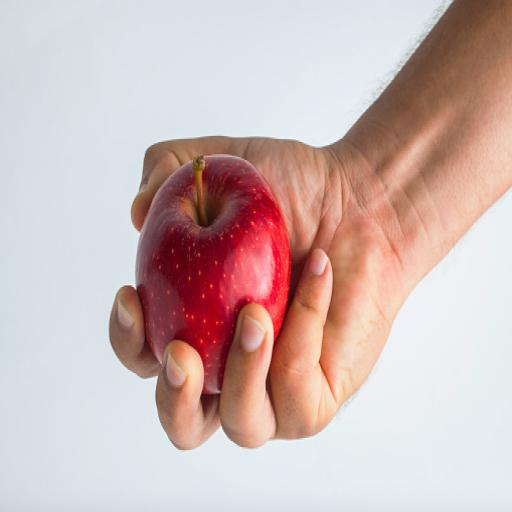apple: (136, 156, 290, 394)
